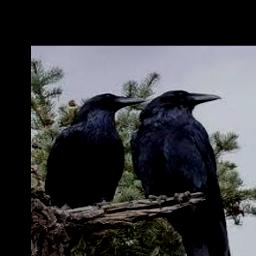Crow: (130, 90, 234, 256), (43, 93, 146, 210)
